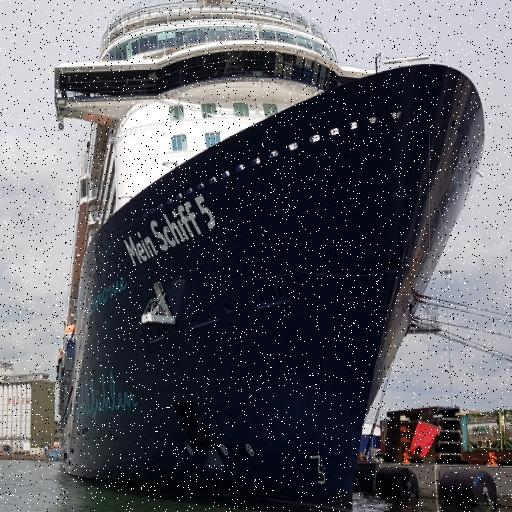cruises: (43, 1, 490, 512)
